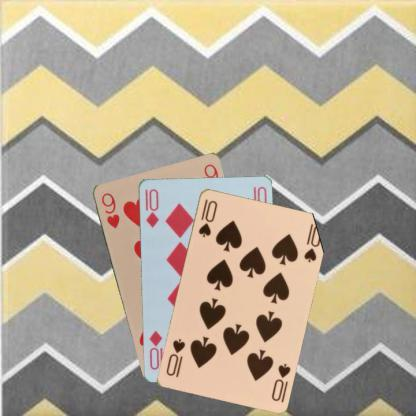10d: (143, 185, 160, 229)
10s: (269, 360, 292, 402), (196, 196, 218, 238)
9h: (98, 190, 121, 230)
